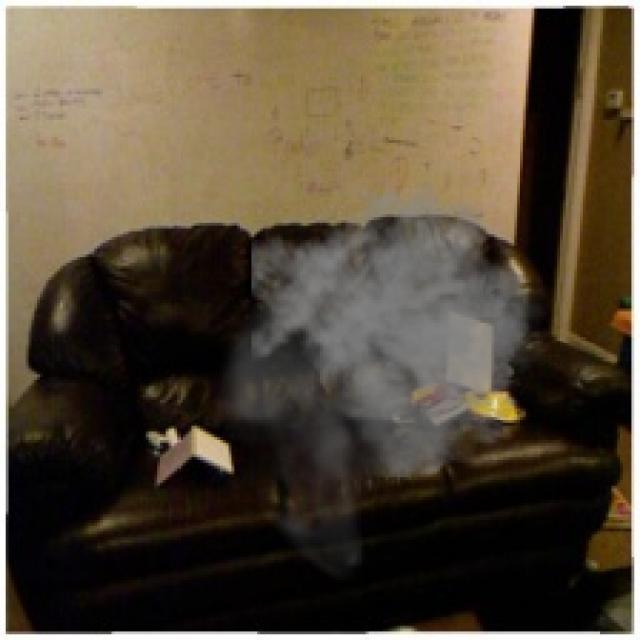Smoke: (208, 177, 554, 586)
